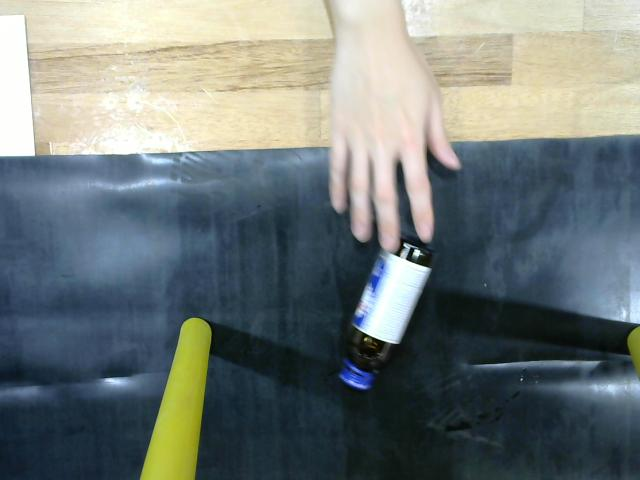glass: (334, 229, 440, 397)
